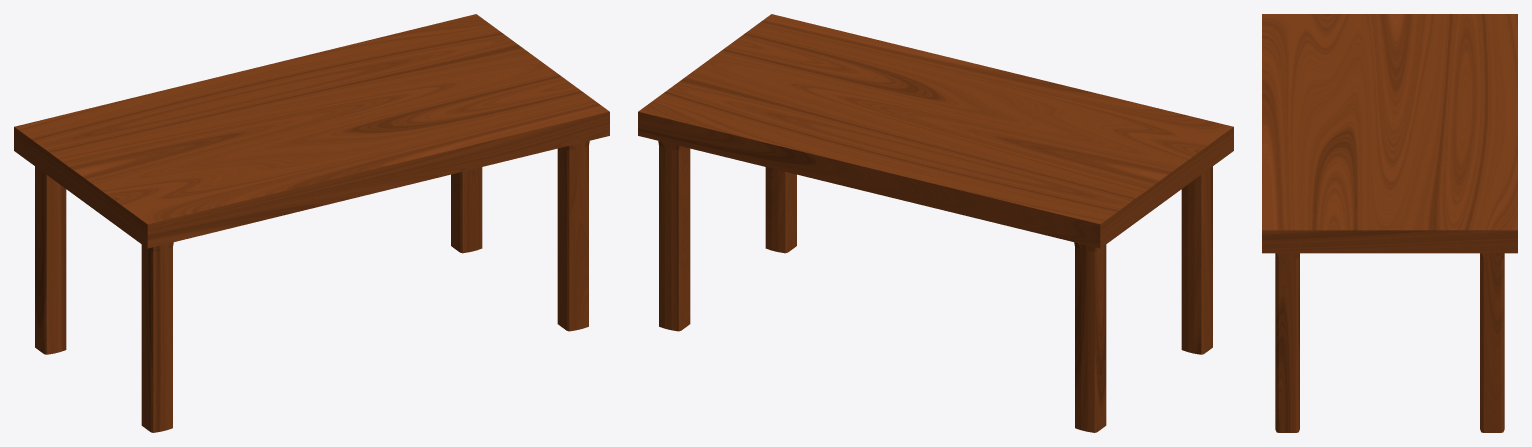
Rendered from table.fbx.
3 views of the same model, side by side, from view 1: azimuth 30°, elevation 25°; view 2: azimuth 150°, elevation 25°; view 3: azimuth 270°, elevation 25° (orthographic). The views are drawn at different scales.
Parts seen in each view (by area): view 1: Cube; view 2: Cube; view 3: Cube.
Boxes of the visible parts, x1,y1,x2,y2 form: Cube: (14,14,609,432); Cube: (638,14,1233,432); Cube: (1262,14,1517,432).
Size of the model in its own units: 400 by 180 by 200.
